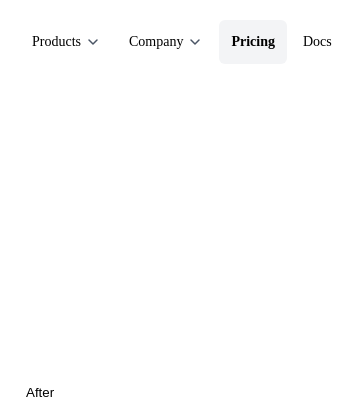
Test: rendering › a click on a button shows its panel, and a second click hides it
Click the button "Products" at {"x": 66, "y": 42}, box [20, 20, 113, 64]
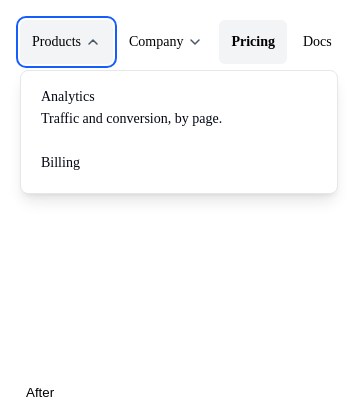
Expected: the link "Analytics Traffic and conversion, by page." is shown, [41, 89, 222, 126]
Expected: the button "Products" is expanded
Expected: the element with class "nuv-navigation-menu__viewport" is shown, [20, 70, 338, 194]
Click the button "Products" at {"x": 66, "y": 42}, box [20, 20, 113, 64]
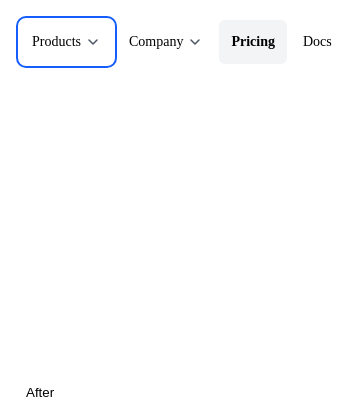
Expected: the element with class "nuv-navigation-menu__viewport" is gone
